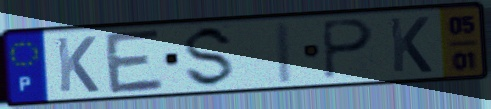E: (102, 26, 168, 96)
I: (272, 19, 297, 86)
K: (387, 14, 435, 74), (54, 34, 102, 94)
P: (319, 17, 377, 83)
S: (182, 23, 238, 90)
